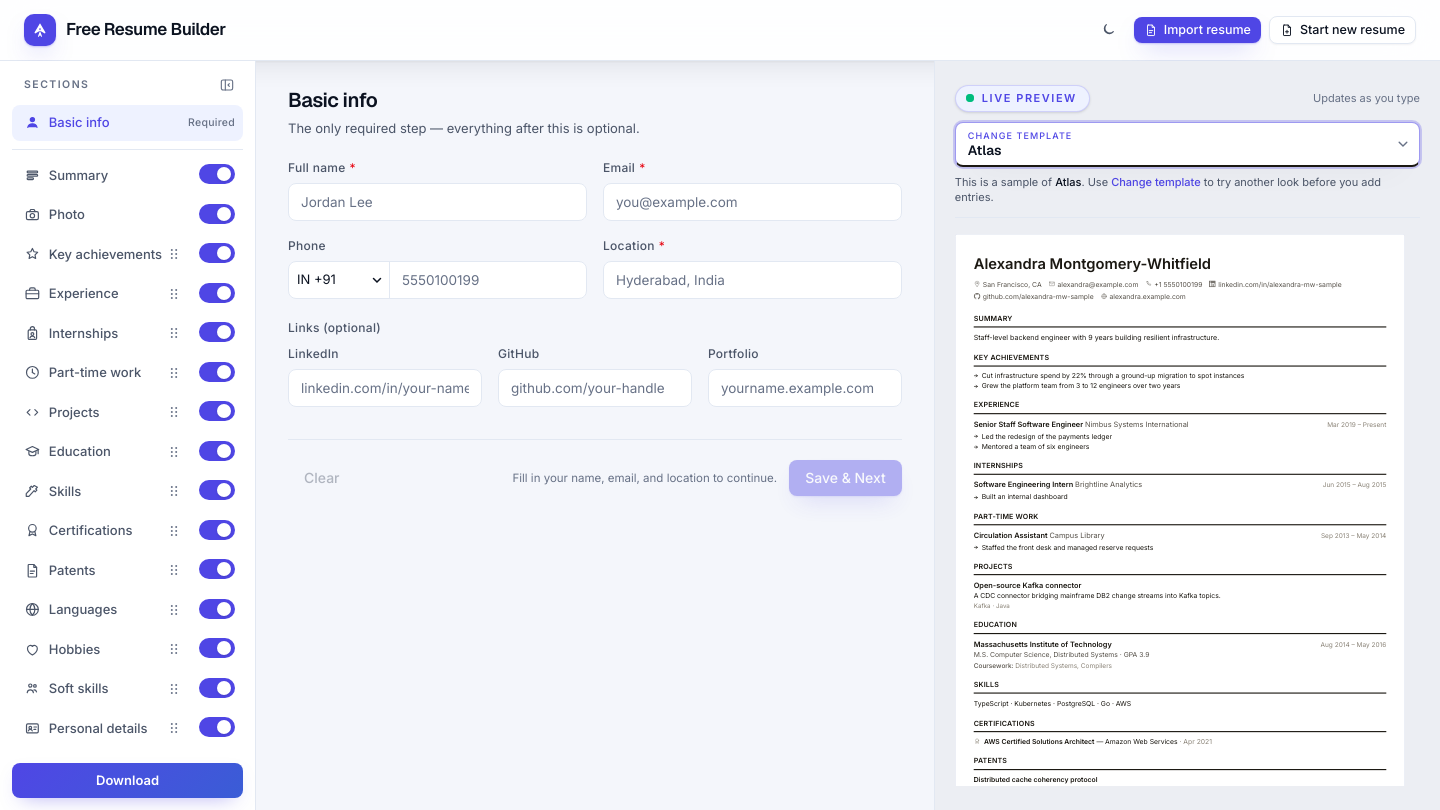
Test: BuilderShell › blocks Next on a content section until it's filled in or skipped, and lets Skip past it regardless
Expected: the heading "Basic info" is shown, [288,87,377,113]
Click the button "Skills". click: (86, 491)
box: [12,474,159,509]
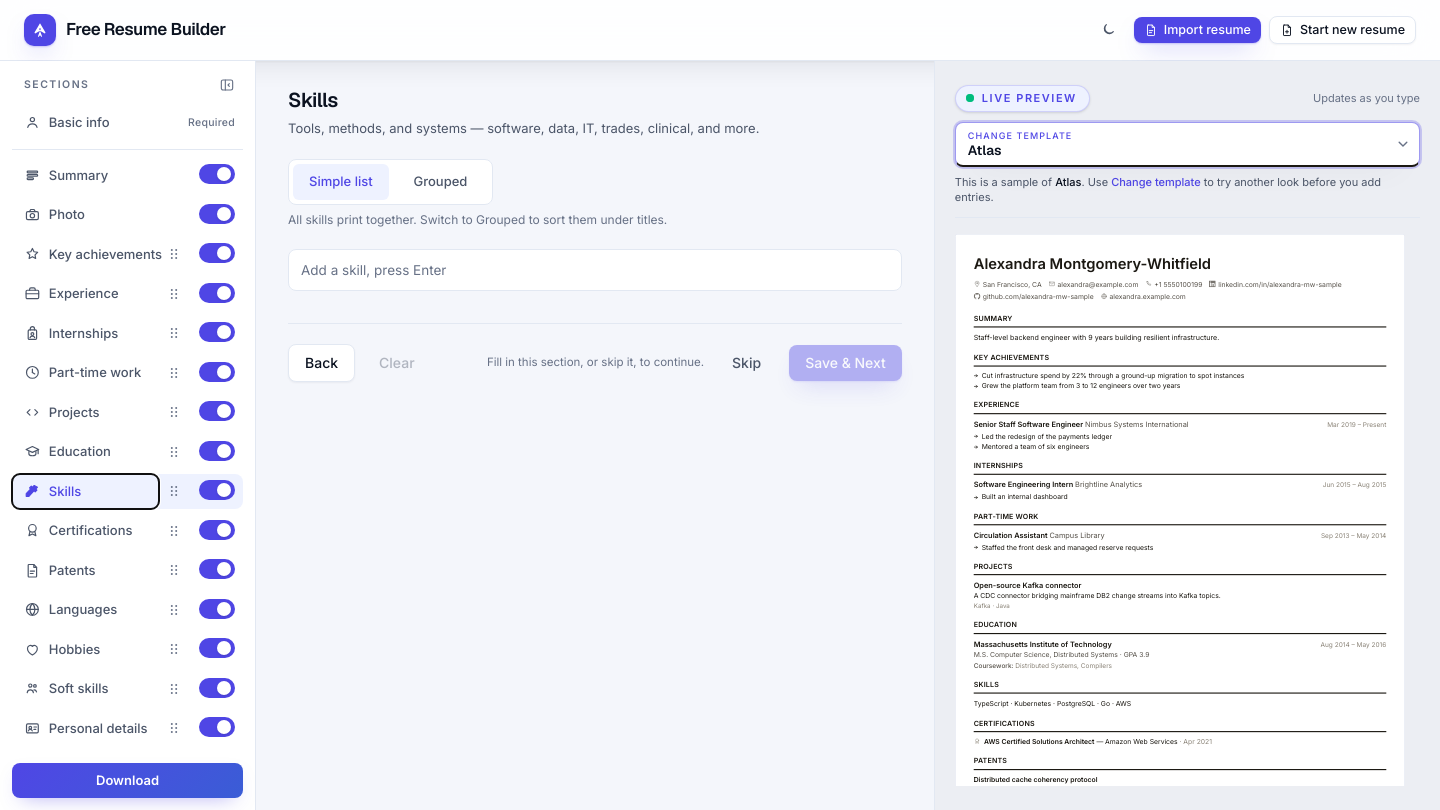
Expected: the button "Save & Next" is disabled, [789,345,902,381]
Click the button "Skip". click: (747, 363)
box: [716,345,777,381]
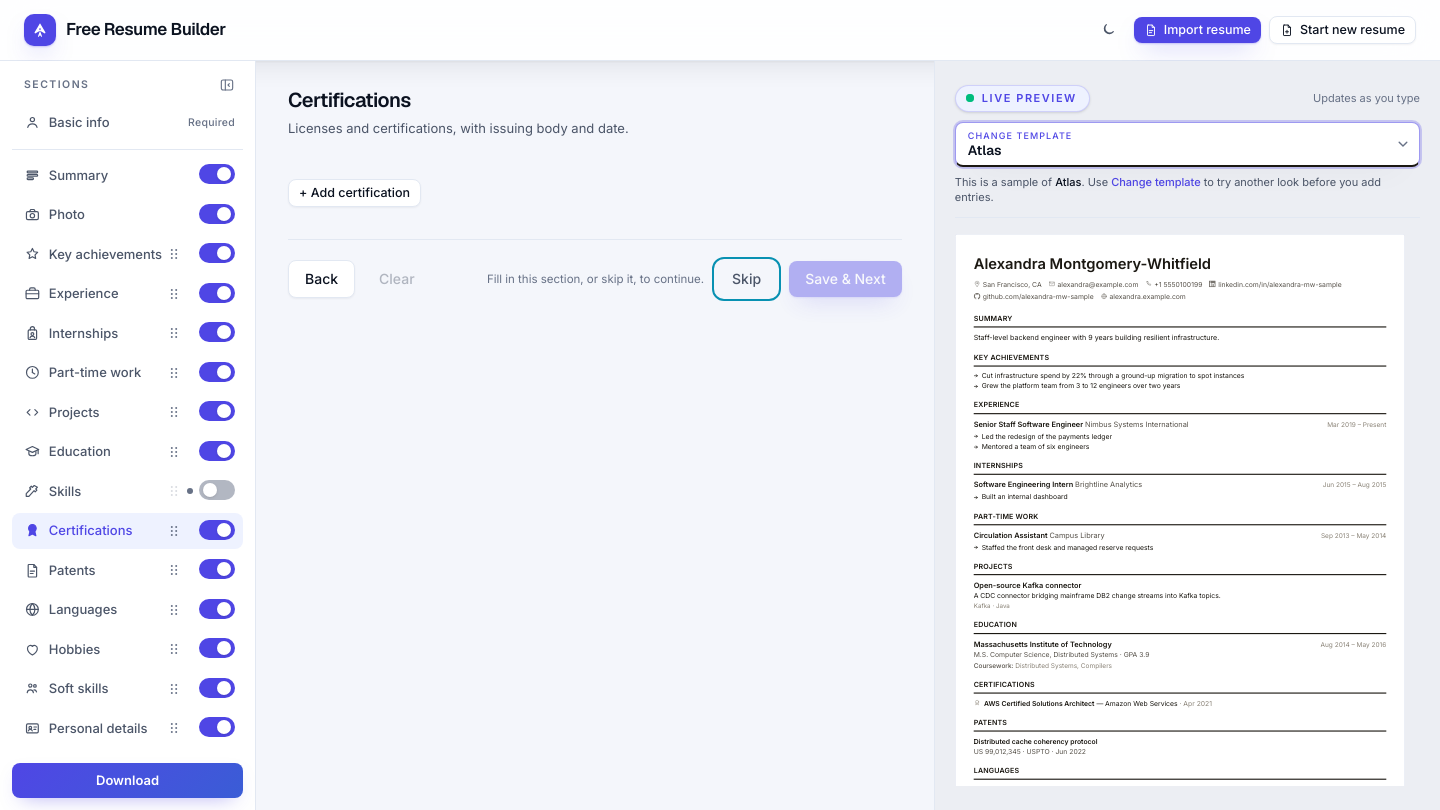
Result: the 1st heading "Certifications" is shown at [288,87,411,113]
Note: Back walks over the skipped Skills step to the previous included one.
Click the button "Back". click: (322, 279)
box: [288,260,355,298]
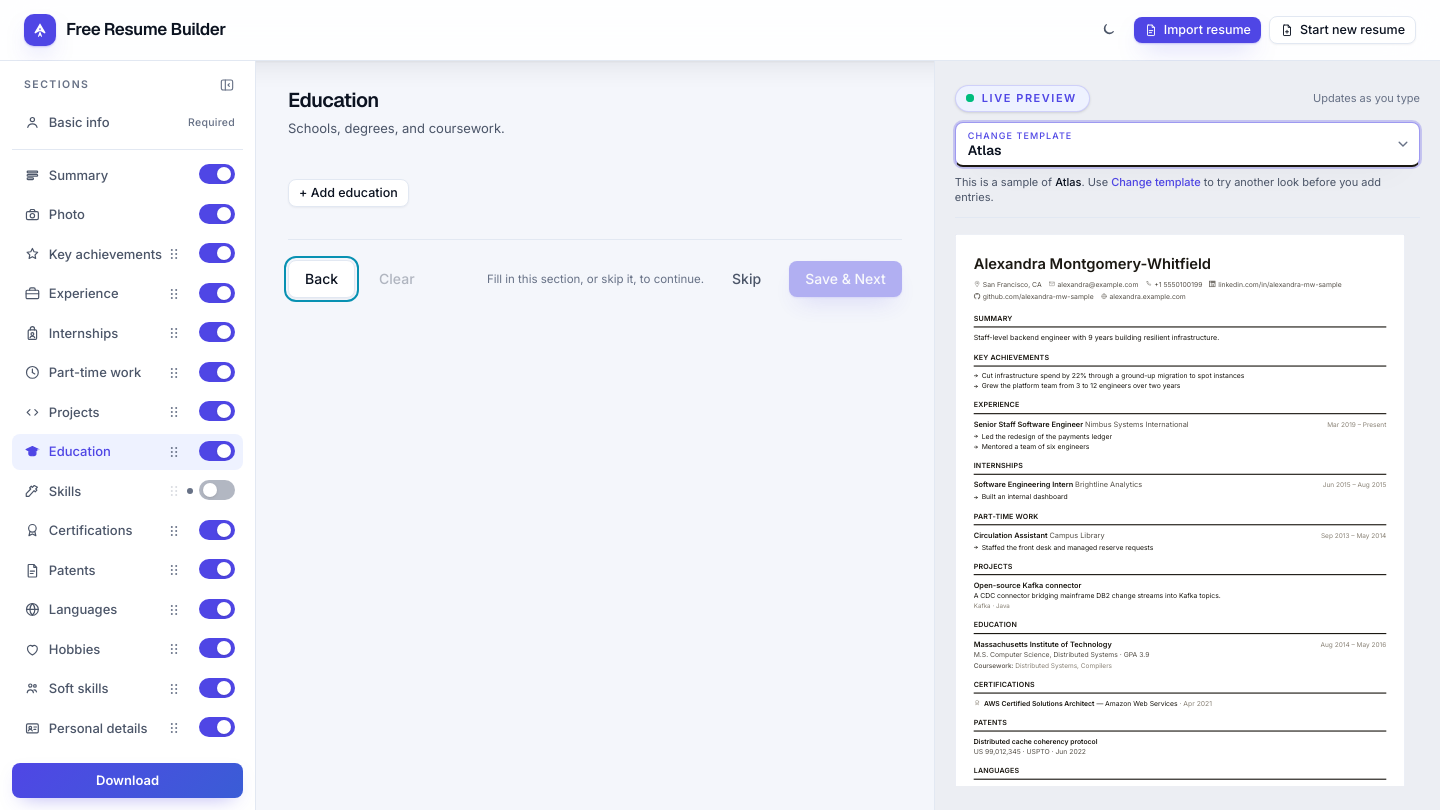
Result: the 1st heading "Education" is shown at [288,87,379,113]
Click the button "Skills". click: (86, 491)
box: [12,474,159,509]
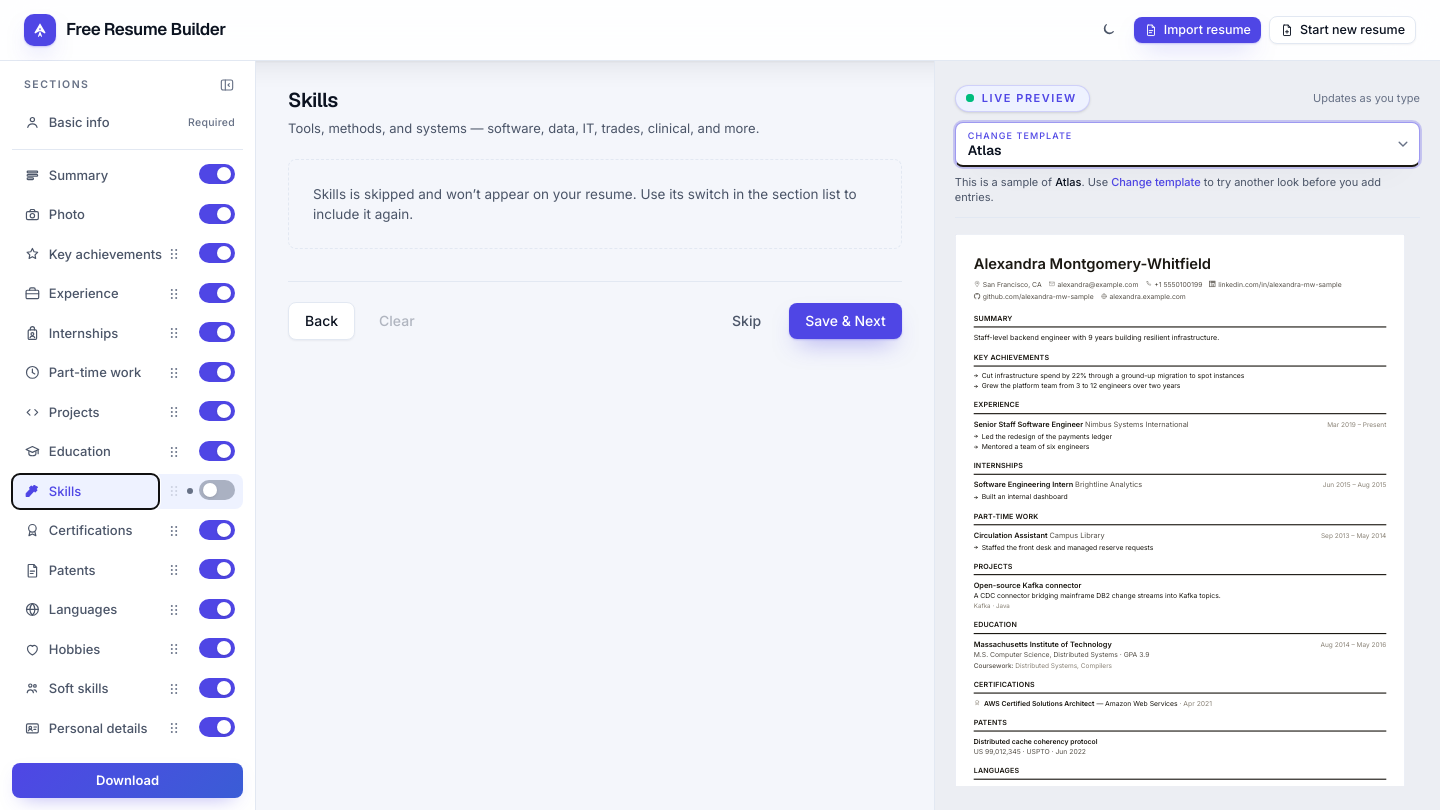
Result: the button "Save & Next" is enabled at [789,303,902,339]
